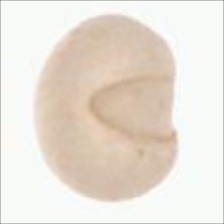L5: (84, 73, 179, 145)
L6: (30, 12, 179, 203)
